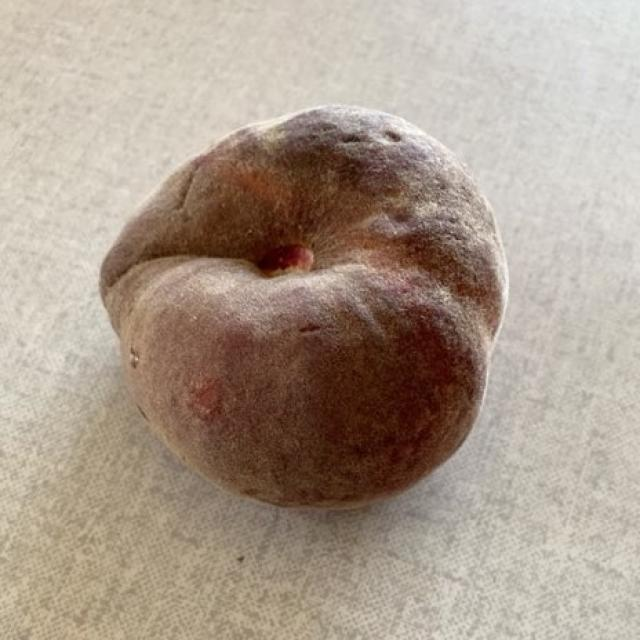peach: (100, 110, 499, 500)
